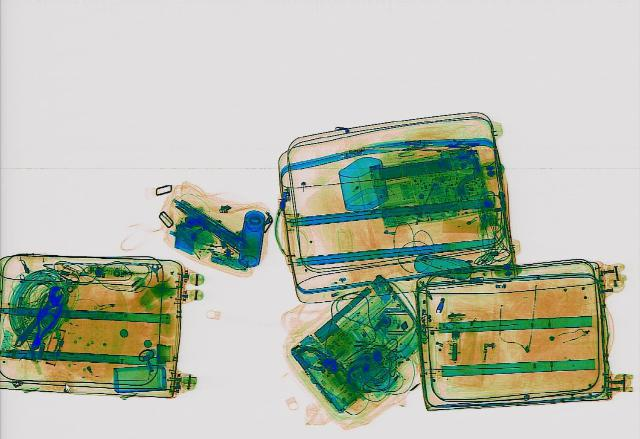Pliers: (21, 300, 65, 348)
Wrench: (4, 282, 72, 348)
